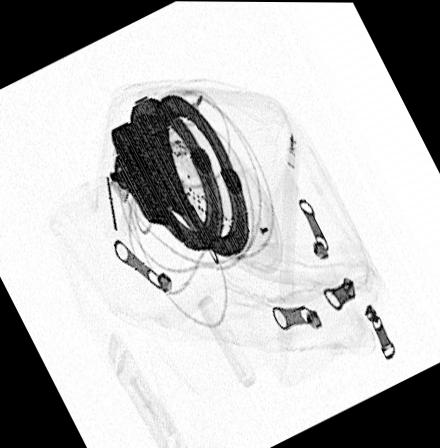HandCuffs: (105, 91, 251, 264)
